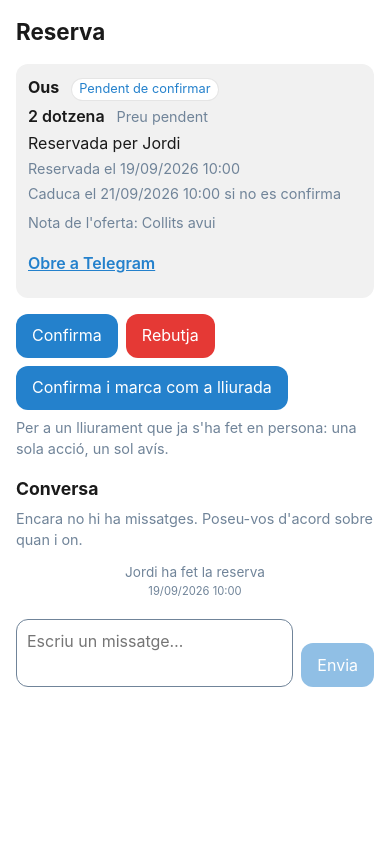
Scenario: Reservation detail (PRD US-4.2–4.4, ADR-0014) › confirm and deliver asks once and lands on delivered with both timestamps (ADR-0014)
This screenshot has width=390, height=844.
Check: the element with test id "reservation-detail" is shown, box [16,64,374,298]
Click the button "Confirma i marca com a lliurada" at (152, 388), box [16,366,288,410]
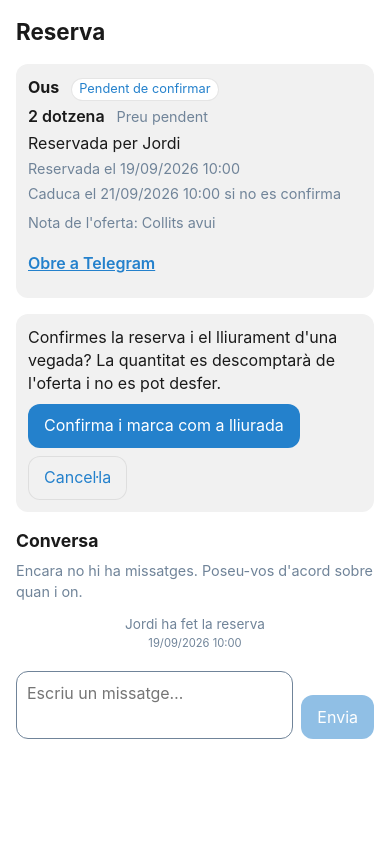
Check: the element with test id "action-confirm" shows "no es pot desfer", box [28,327,337,393]
Click the button "Confirma i marca com a lliurada" at (164, 426), box [28,404,300,448]
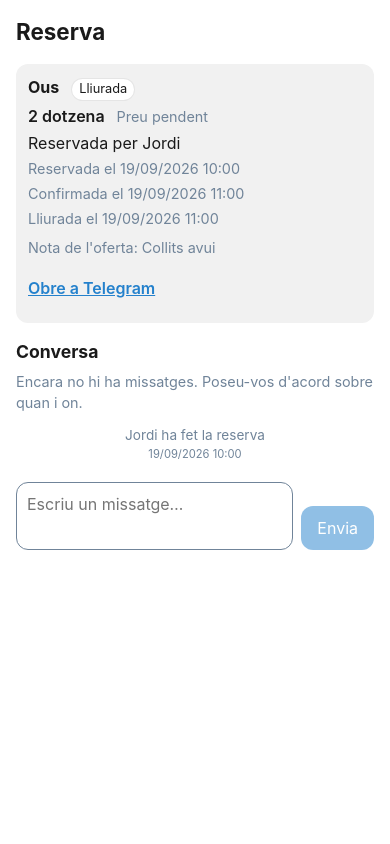
Check: the text "Confirmada el 19/09/2026 11:00" is shown, box [28,184,244,205]
Check: the text "Lliurada el 19/09/2026 11:00" is shown, box [28,209,219,230]
